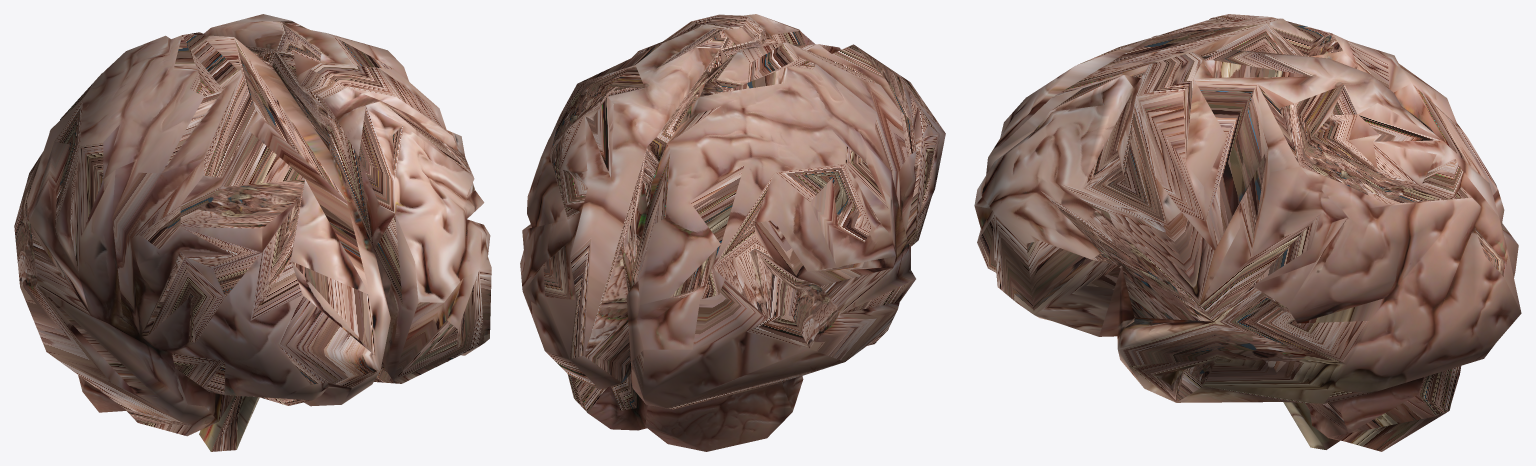
The model's file is brain1.glb.
3 renders of one model, left to right at view 1: azimuth 30°, elevation 25°; view 2: azimuth 150°, elevation 25°; view 3: azimuth 270°, elevation 25°, orthographic. The views are drawn at different scales.
Visible parts, largest first — view 1: Mesh_0; view 2: Mesh_0; view 3: Mesh_0.
Part boxes in pixels (x1,y1,x2,y2): Mesh_0: [14, 14, 491, 451]; Mesh_0: [520, 14, 945, 451]; Mesh_0: [974, 14, 1521, 451].
Size of the model in its own units: 1.5 by 1.67 by 2.01.
1 material, 1 textured.
